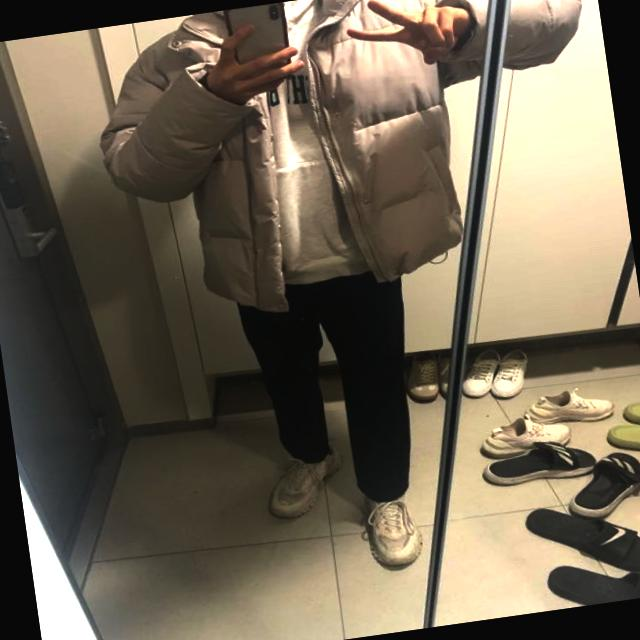padding: (81, 0, 619, 333)
slacks: (238, 268, 430, 520)
